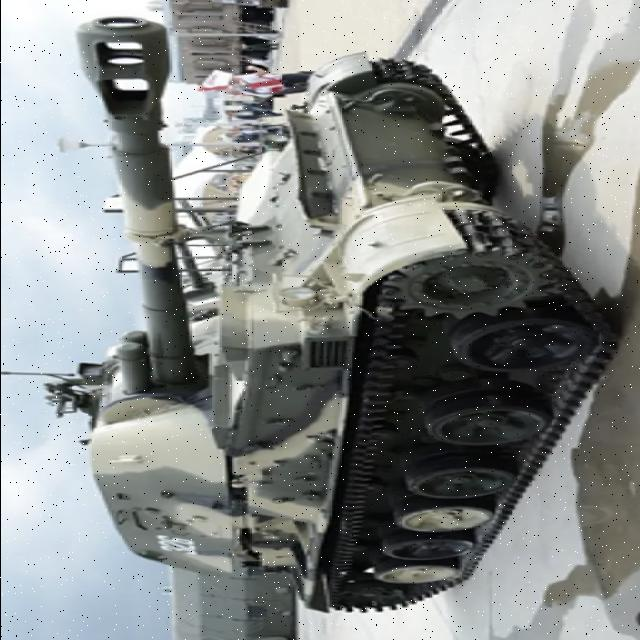ART: (62, 16, 620, 622)
